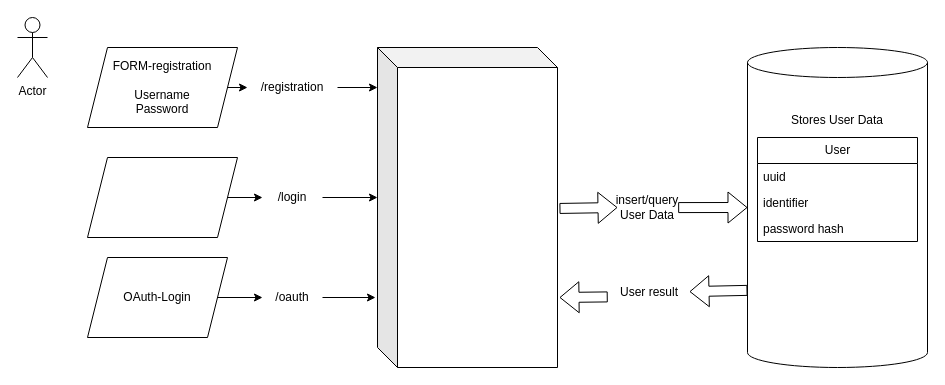
The diagram is 945 pixels wide and 385 high, and some of its shapes have lost their labels. The shapes that lost their labels are listed below. From the top down, each one's centre as x and y in pixels, then its label:
At (162,197): "FORM-Login Username Password".
At (467,207): "Identity Service".
